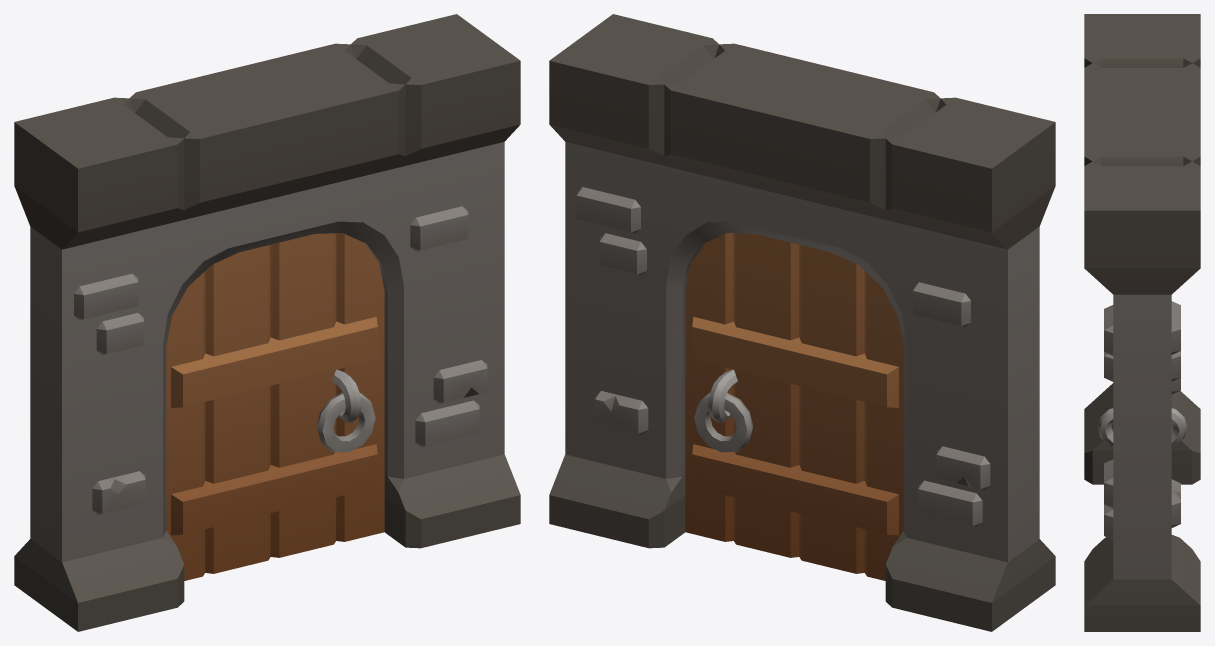
The model's file is kaykit_dungeon_wall_doorway.glb.
The picture shows the model from 3 angles, left to right: view 1: azimuth 30°, elevation 25°; view 2: azimuth 150°, elevation 25°; view 3: azimuth 270°, elevation 25°; orthographic projection. The views are drawn at different scales.
Parts seen in each view (by area): view 1: wall_doorway, wall_doorway_door; view 2: wall_doorway, wall_doorway_door; view 3: wall_doorway, wall_doorway_door.
Part boxes in pixels (x1,y1,x2,y2): wall_doorway: [14, 14, 520, 631]; wall_doorway_door: [166, 233, 384, 580]; wall_doorway: [549, 14, 1055, 631]; wall_doorway_door: [685, 233, 903, 580]; wall_doorway: [1084, 14, 1200, 631]; wall_doorway_door: [1097, 408, 1187, 445].
Bounding box in the file's own units: 4 × 4 × 1.
Materials: 1 (1 with a texture image).
